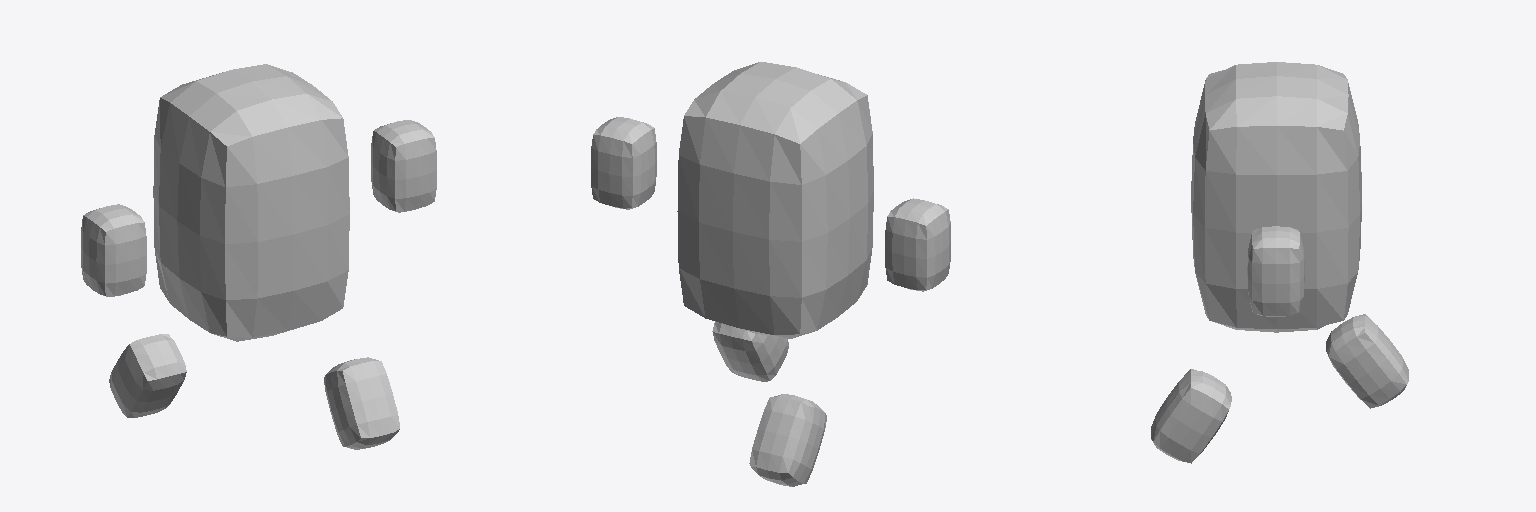
Rendered from boxManWalk1.obj.
3 renders of one model, left to right at view 1: azimuth 30°, elevation 25°; view 2: azimuth 150°, elevation 25°; view 3: azimuth 270°, elevation 25°, orthographic.
Visible parts, largest first — view 1: Mesh.002_Mesh.003_Cube_Cube.00, Mesh.001_Mesh.002_Cube.001_Cub, Mesh.004_Mesh.004_Cube.004_Cub, Mesh.005_Mesh.005_Cube.003_Cub, Mesh.003_Mesh.001_Cube.002_Cub; view 2: Mesh.002_Mesh.003_Cube_Cube.00, Mesh.003_Mesh.001_Cube.002_Cub, Mesh.005_Mesh.005_Cube.003_Cub, Mesh.004_Mesh.004_Cube.004_Cub, Mesh.001_Mesh.002_Cube.001_Cub; view 3: Mesh.002_Mesh.003_Cube_Cube.00, Mesh.003_Mesh.001_Cube.002_Cub, Mesh.001_Mesh.002_Cube.001_Cub, Mesh.004_Mesh.004_Cube.004_Cub.
Part boxes in pixels (x1,y1,x2,y2): Mesh.002_Mesh.003_Cube_Cube.00: (153,64,349,341); Mesh.001_Mesh.002_Cube.001_Cub: (324,357,399,449); Mesh.004_Mesh.004_Cube.004_Cub: (371,120,436,212); Mesh.005_Mesh.005_Cube.003_Cub: (81,204,146,296); Mesh.003_Mesh.001_Cube.002_Cub: (109,334,186,417); Mesh.002_Mesh.003_Cube_Cube.00: (677,62,873,338); Mesh.003_Mesh.001_Cube.002_Cub: (749,394,826,486); Mesh.005_Mesh.005_Cube.003_Cub: (885,198,950,291); Mesh.004_Mesh.004_Cube.004_Cub: (591,117,656,209); Mesh.001_Mesh.002_Cube.001_Cub: (712,321,788,381); Mesh.002_Mesh.003_Cube_Cube.00: (1191,62,1361,332); Mesh.003_Mesh.001_Cube.002_Cub: (1326,314,1408,408); Mesh.001_Mesh.002_Cube.001_Cub: (1151,369,1231,463); Mesh.004_Mesh.004_Cube.004_Cub: (1247,226,1304,316).
Size of the model in its own units: 0.6962 by 0.6888 by 0.4562.